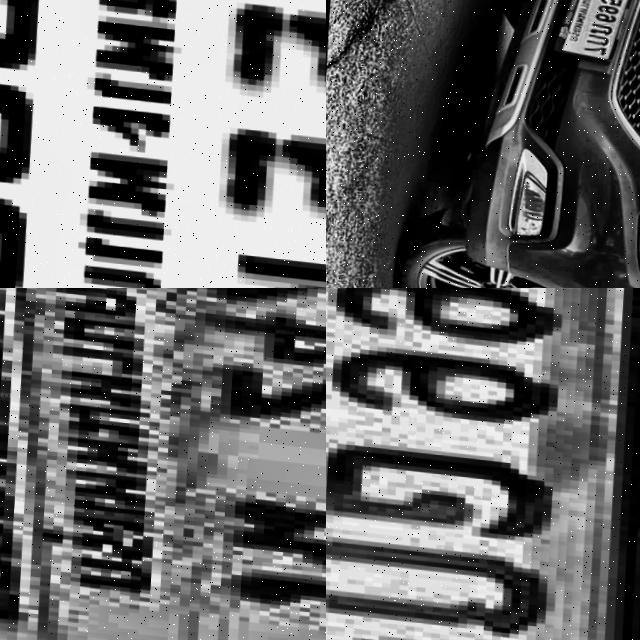license-plate: (0, 288, 326, 640), (326, 288, 640, 640), (0, 0, 326, 288), (546, 0, 638, 66)
